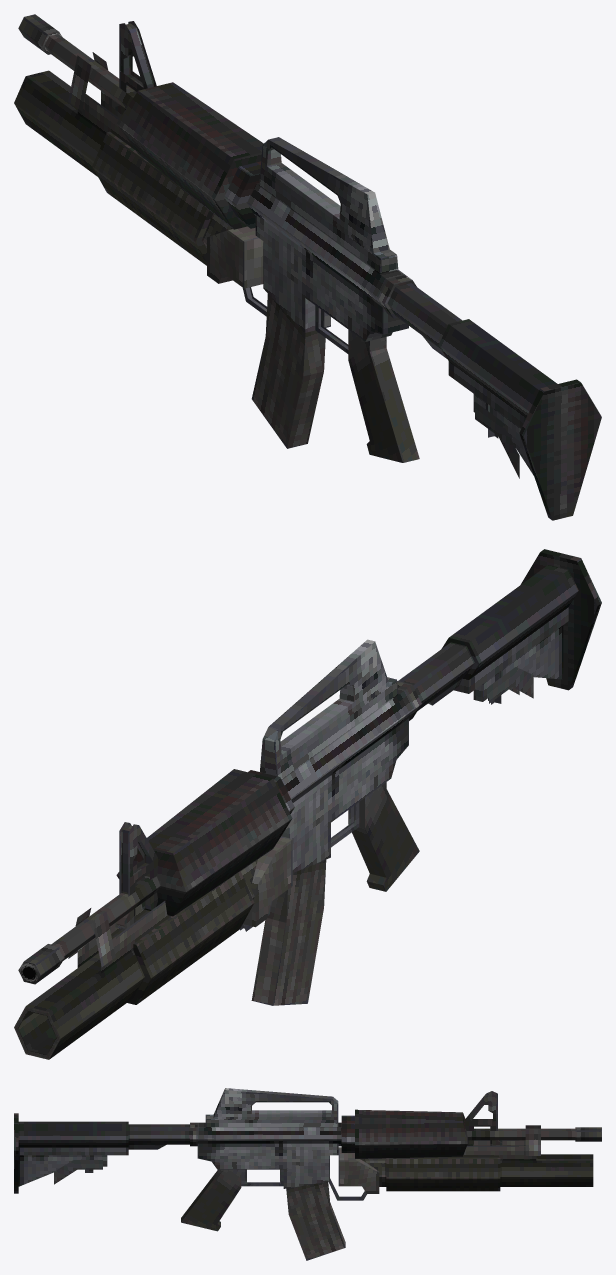
The model's file is recovered_gun_m4acarbine_203.glb.
The picture shows the model from 3 angles, top to bottom: view 1: azimuth 30°, elevation 25°; view 2: azimuth 150°, elevation 25°; view 3: azimuth 270°, elevation 25°; orthographic projection. The views are drawn at different scales.
Visible parts, largest first — view 1: Gun_9a4a08e6b9bf; view 2: Gun_9a4a08e6b9bf; view 3: Gun_9a4a08e6b9bf.
Part boxes in pixels (bbox=[...]): Gun_9a4a08e6b9bf: bbox=[14, 14, 601, 520]; Gun_9a4a08e6b9bf: bbox=[14, 549, 601, 1059]; Gun_9a4a08e6b9bf: bbox=[14, 1088, 601, 1260].
Bounding box in the file's own units: 0.0751 × 0.2813 × 0.8861.
Materials: 2 (2 with a texture image).
